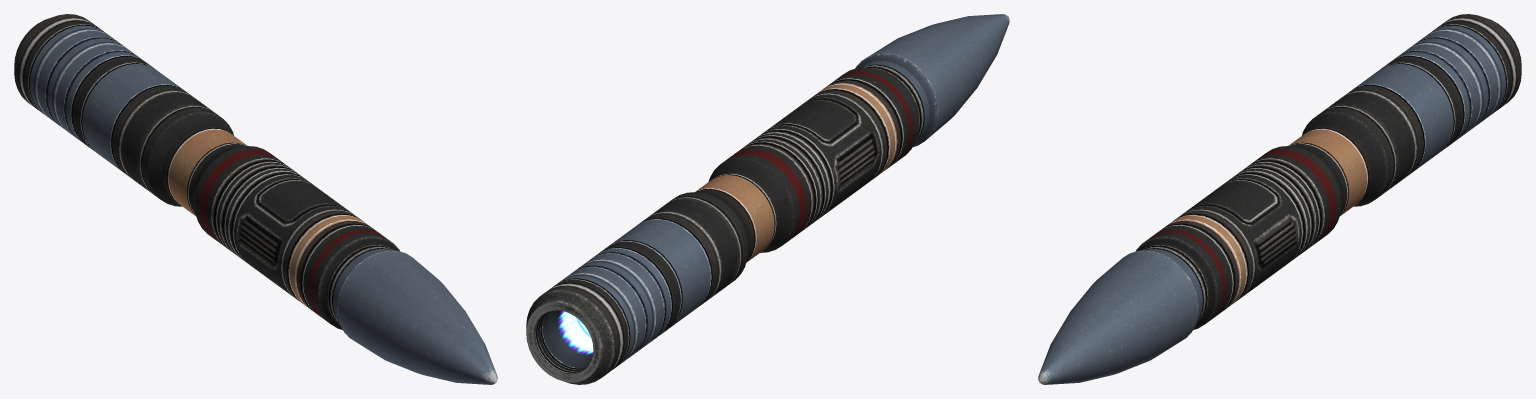
Rendered from VN113TacticalMissile.fbx.
3 renders of one model, left to right at view 1: azimuth 30°, elevation 25°; view 2: azimuth 150°, elevation 25°; view 3: azimuth 330°, elevation 25°, orthographic.
Parts seen in each view (by area): view 1: VN113TacticalMissile; view 2: VN113TacticalMissile; view 3: VN113TacticalMissile.
Boxes of the visible parts, x1,y1,x2,y2 form: VN113TacticalMissile: (14, 14, 497, 384); VN113TacticalMissile: (526, 14, 1009, 384); VN113TacticalMissile: (1038, 14, 1521, 384).
Size of the model in its own units: 234 by 234 by 2036.
